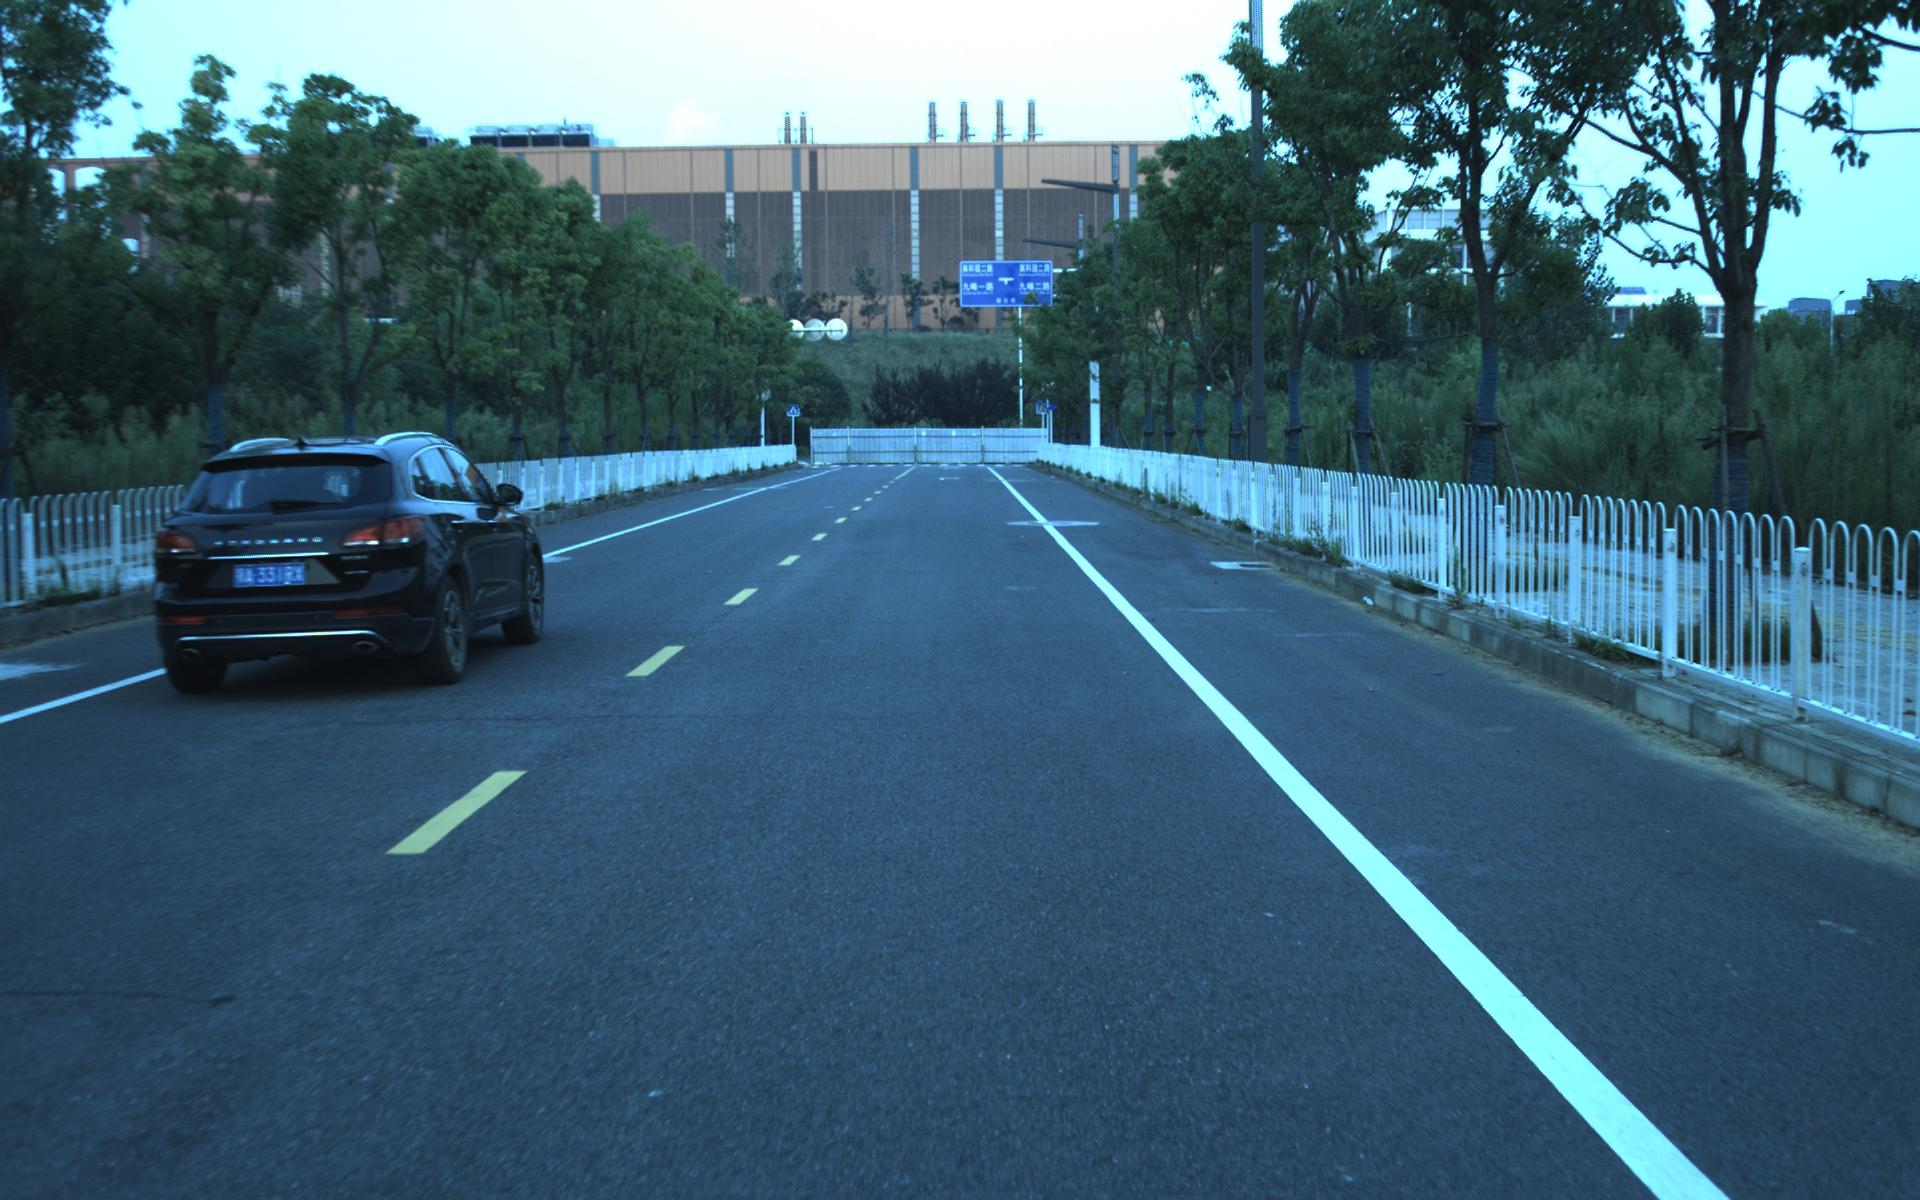Car: (133, 423, 550, 695)
